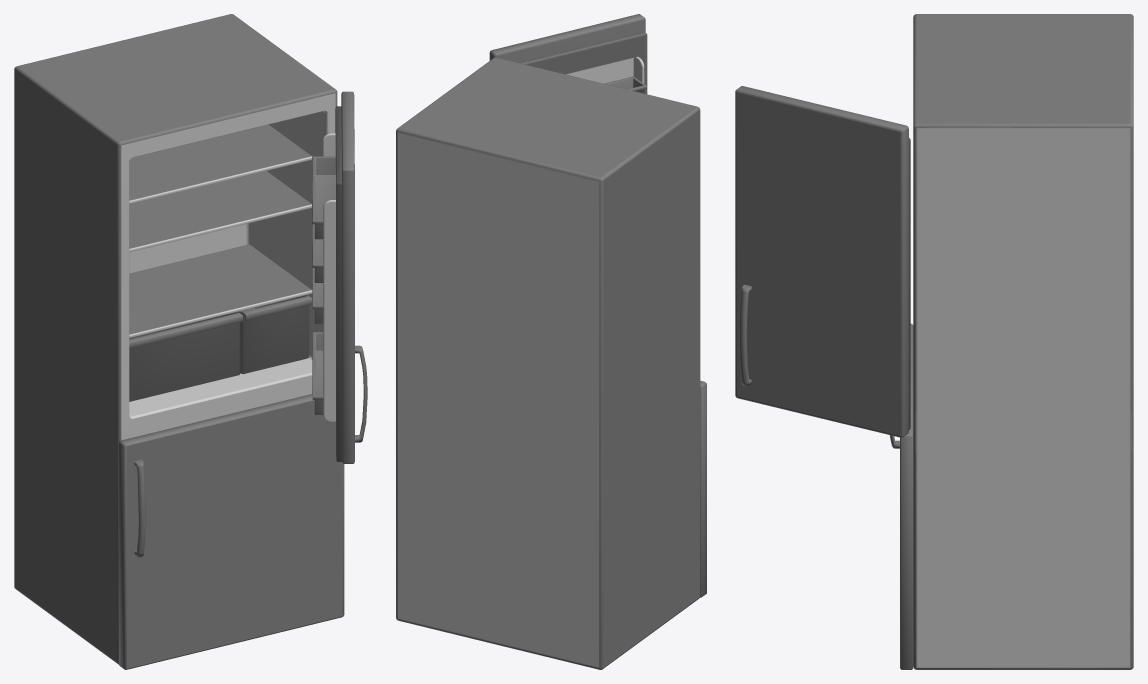
Rendered from refrigerator.fbx.
3 views of the same model, side by side, from view 1: azimuth 30°, elevation 25°; view 2: azimuth 150°, elevation 25°; view 3: azimuth 270°, elevation 25° (orthographic). The views are drawn at different scales.
Visible parts, largest first — view 1: refrigerator, door refrigerator.001, door refrigerator, box refrigerator.003, box refrigerator.004, handle refrigerator.002, handle refrigerator.003; view 2: refrigerator, door refrigerator, door refrigerator.001; view 3: refrigerator, door refrigerator, door refrigerator.001, handle refrigerator.003.
Boxes of the visible parts, x1,y1,x2,y2 form: refrigerator: (14,14,337,664); door refrigerator.001: (119,394,344,669); door refrigerator: (312,91,354,463); box refrigerator.003: (129,312,242,401); box refrigerator.004: (237,295,312,374); handle refrigerator.002: (134,460,146,557); handle refrigerator.003: (355,345,367,442); refrigerator: (396,57,700,669); door refrigerator: (489,14,647,94); door refrigerator.001: (700,380,706,597); refrigerator: (913,14,1133,669); door refrigerator: (735,86,910,437); door refrigerator.001: (900,323,913,669); handle refrigerator.003: (739,284,751,386).
Bounding box in the file's own units: 127 × 276 × 183.
